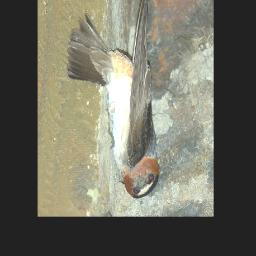Swallow: (66, 0, 161, 200)
